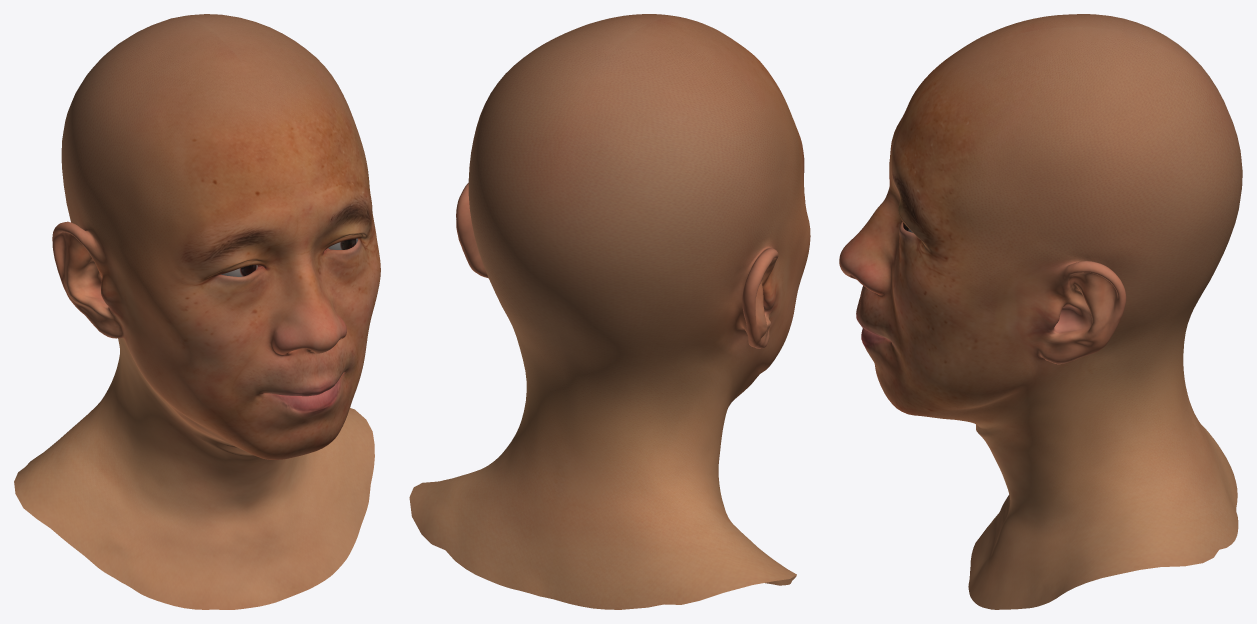
The picture shows the model from 3 angles, left to right: view 1: azimuth 30°, elevation 25°; view 2: azimuth 150°, elevation 25°; view 3: azimuth 270°, elevation 25°; orthographic projection. The views are drawn at different scales.
Parts seen in each view (by area): view 1: Registered head; view 2: Registered head; view 3: Registered head.
Boxes of the visible parts, x1,y1,x2,y2 form: Registered head: (14, 14, 380, 609); Registered head: (409, 14, 810, 609); Registered head: (839, 14, 1242, 609).
Size of the model in its own units: 1.26 by 1.89 by 1.25.
Materials: 3 (3 with a texture image).
